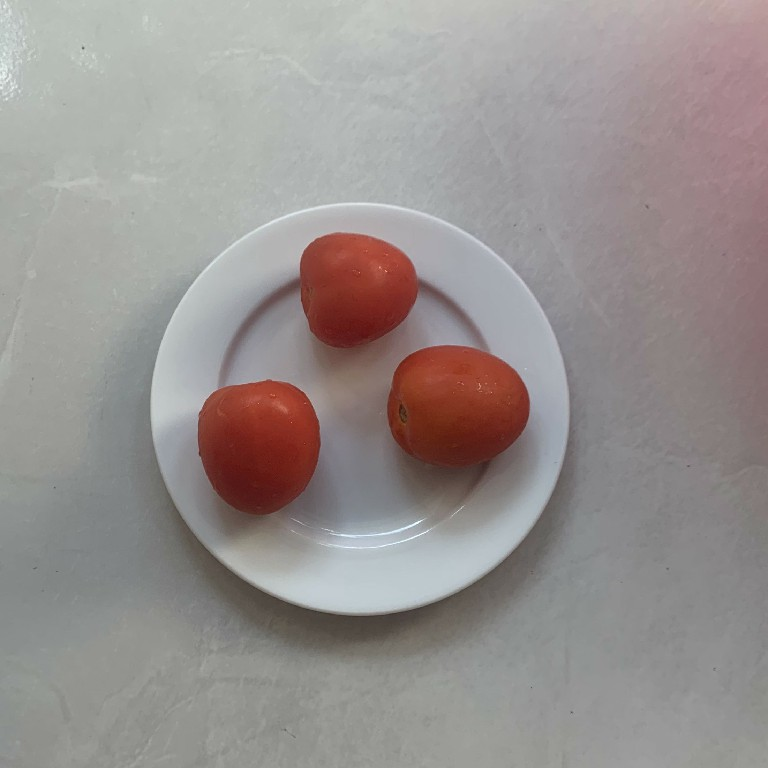OK: (190, 373, 326, 522), (384, 338, 526, 474), (297, 222, 424, 353)
